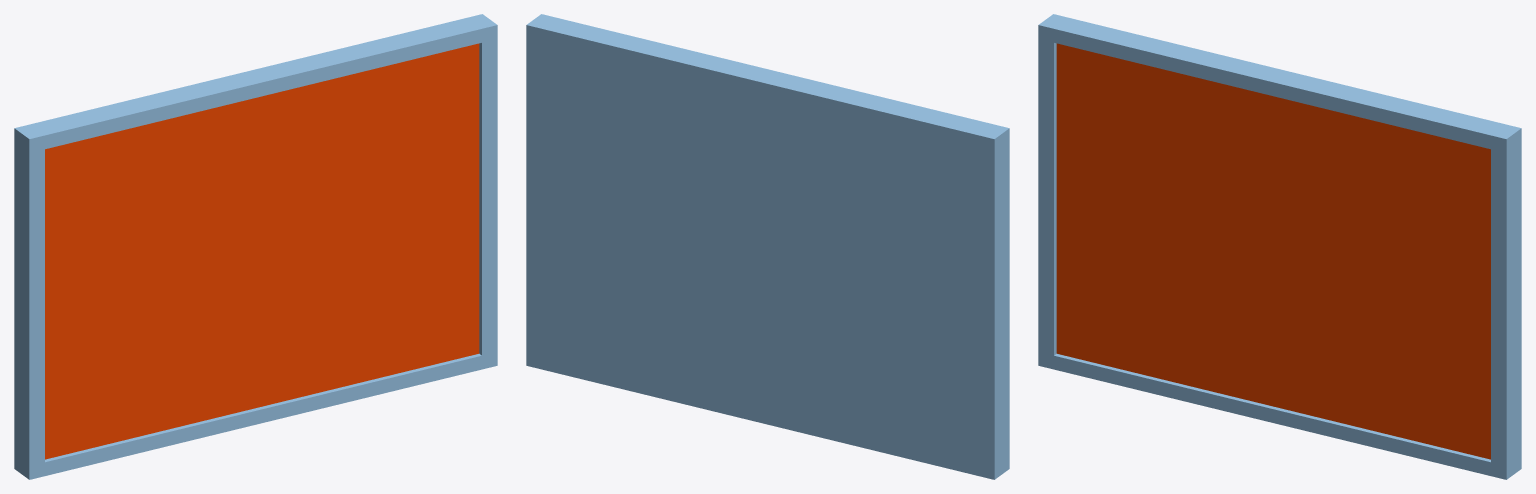
The model's file is Mirror_03.fbx.
The picture shows the model from 3 angles, left to right: view 1: azimuth 30°, elevation 25°; view 2: azimuth 150°, elevation 25°; view 3: azimuth 330°, elevation 25°; orthographic projection.
Parts seen in each view (by area): view 1: Mirror_03; view 2: Mirror_03; view 3: Mirror_03.
Boxes of the visible parts, <box> form: Mirror_03: <box>14,14,497,479</box>; Mirror_03: <box>526,14,1009,479</box>; Mirror_03: <box>1038,14,1521,479</box>.
Bounding box in the file's own units: 121 × 84.41 × 6.77.
